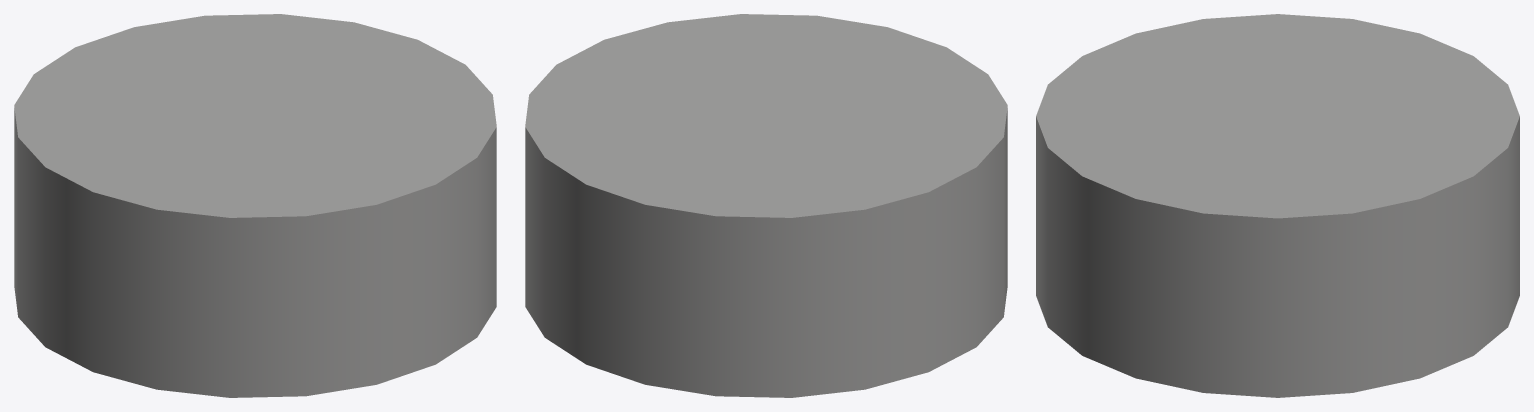
Rendered from 圆毛坯.FBX.
The picture shows the model from 3 angles, left to right: view 1: azimuth 30°, elevation 25°; view 2: azimuth 150°, elevation 25°; view 3: azimuth 270°, elevation 25°; orthographic projection.
Visible parts, largest first — view 1: 圆毛坯; view 2: 圆毛坯; view 3: 圆毛坯.
Part boxes in pixels (x1,y1,x2,y2): 圆毛坯: [14, 14, 496, 397]; 圆毛坯: [525, 14, 1007, 397]; 圆毛坯: [1036, 14, 1519, 397].
Bounding box in the file's own units: 7.03 × 2.88 × 7.03.
1 material, 1 textured.
